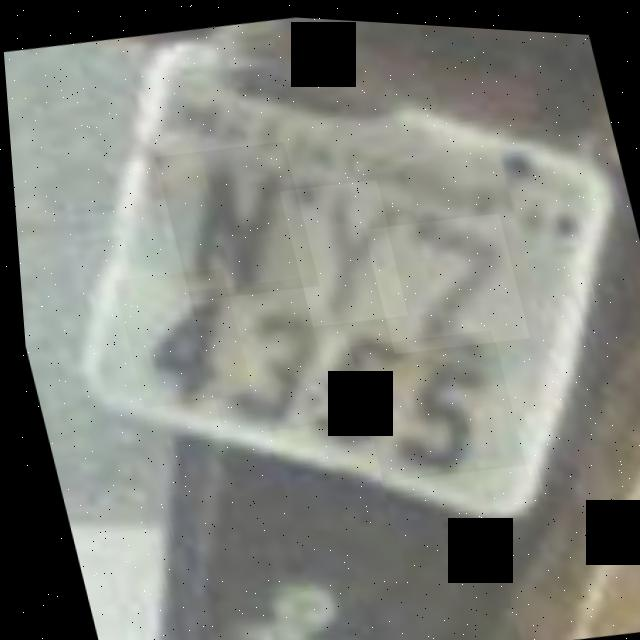3: (182, 269, 331, 438)
4: (107, 260, 249, 411)
5: (343, 317, 520, 484), (269, 296, 413, 460)
N: (151, 132, 316, 305)
T: (276, 170, 406, 327)
Z: (359, 200, 528, 355)
